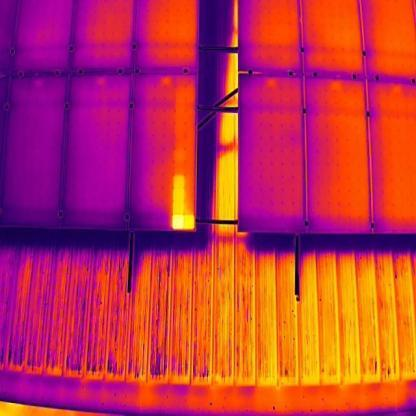anomaly: (168, 171, 197, 232)
